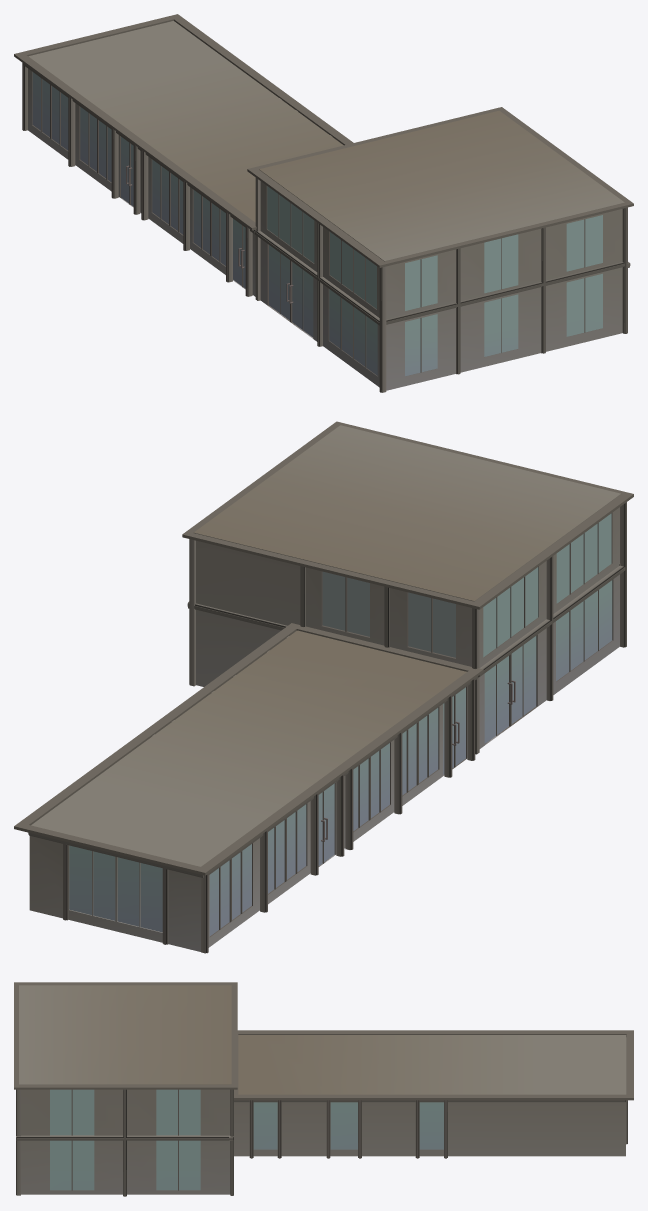
File: Shop.fbx
The picture shows the model from 3 angles, top to bottom: view 1: azimuth 30°, elevation 25°; view 2: azimuth 150°, elevation 25°; view 3: azimuth 270°, elevation 25°; orthographic projection. The views are drawn at different scales.
Parts seen in each view (by area): view 1: Plane.004; view 2: Plane.004; view 3: Plane.004.
Part boxes in pixels (x1,y1,x2,y2): Plane.004: (14,14,633,392); Plane.004: (14,421,633,953); Plane.004: (14,982,633,1196).
Size of the model in its own units: 3356 by 1640 by 8364.
